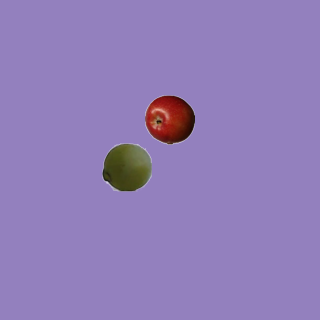Apple Braeburn: (144, 94, 194, 144)
Grape White 4: (101, 141, 151, 191)
